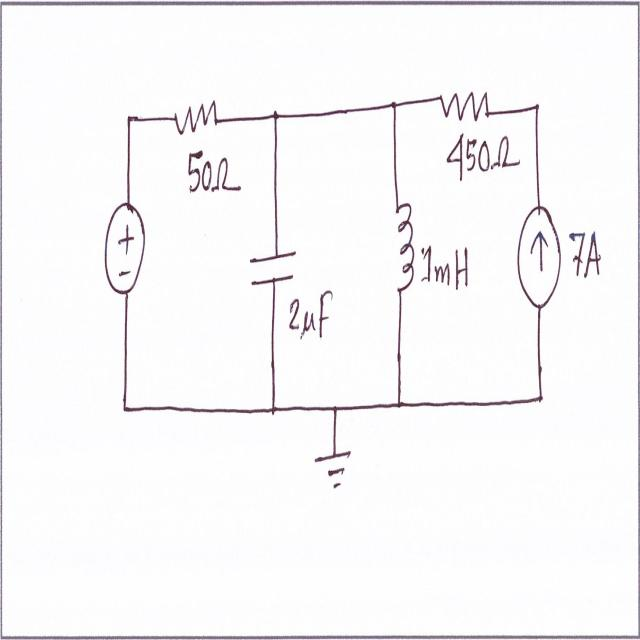capacitor: (247, 247, 300, 293)
current_source: (515, 198, 565, 316)
ground: (314, 442, 356, 497)
inductor: (390, 192, 414, 304)
resistor: (434, 79, 498, 132), (169, 93, 226, 144)
voltage_source: (100, 194, 150, 306)
